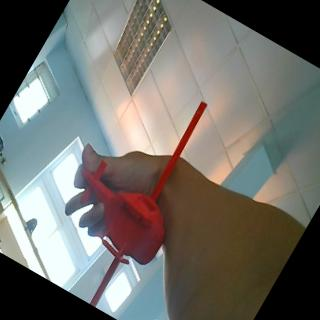Helicopter: (24, 63, 235, 320)
